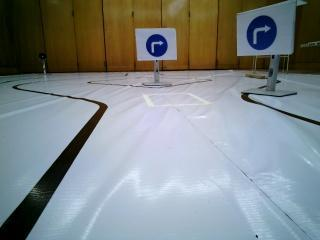right: (237, 15, 294, 54), (136, 30, 177, 59)
